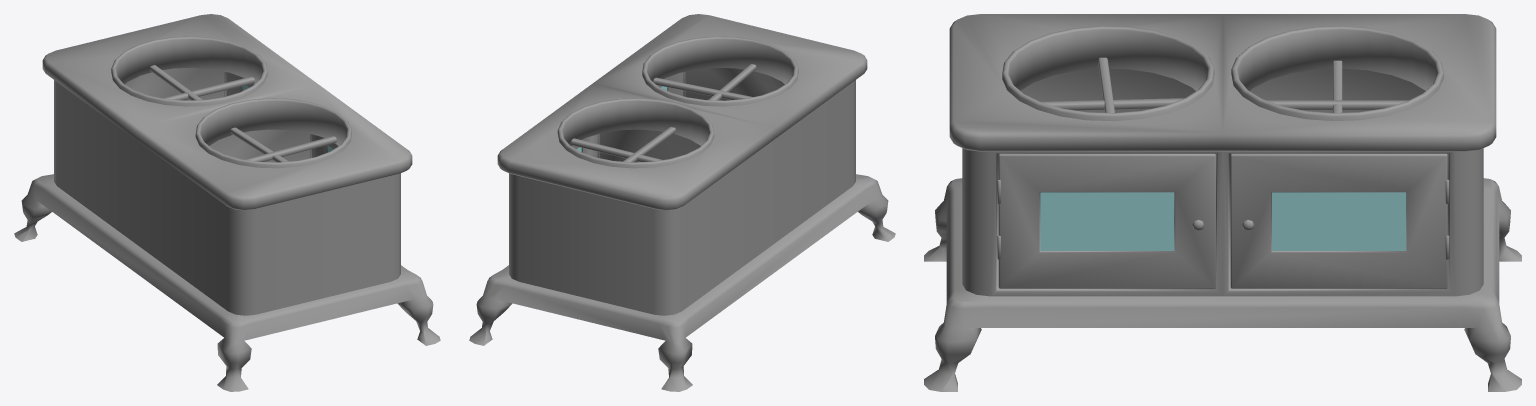
Rendered from F_Stove.fbx.
3 views of the same model, side by side, from view 1: azimuth 30°, elevation 25°; view 2: azimuth 150°, elevation 25°; view 3: azimuth 270°, elevation 25° (orthographic). The views are drawn at different scales.
Parts seen in each view (by area): view 1: Cube.036; view 2: Cube.036; view 3: Cube.036, Cube.037, Cube.044.
Part boxes in pixels (<box>): Cube.036: <box>14,14,440,391</box>; Cube.036: <box>469,14,895,391</box>; Cube.036: <box>924,14,1521,391</box>; Cube.037: <box>1230,153,1449,288</box>; Cube.044: <box>997,153,1215,288</box>.
Bounding box in the file's own units: 111 × 90.91 × 195.
